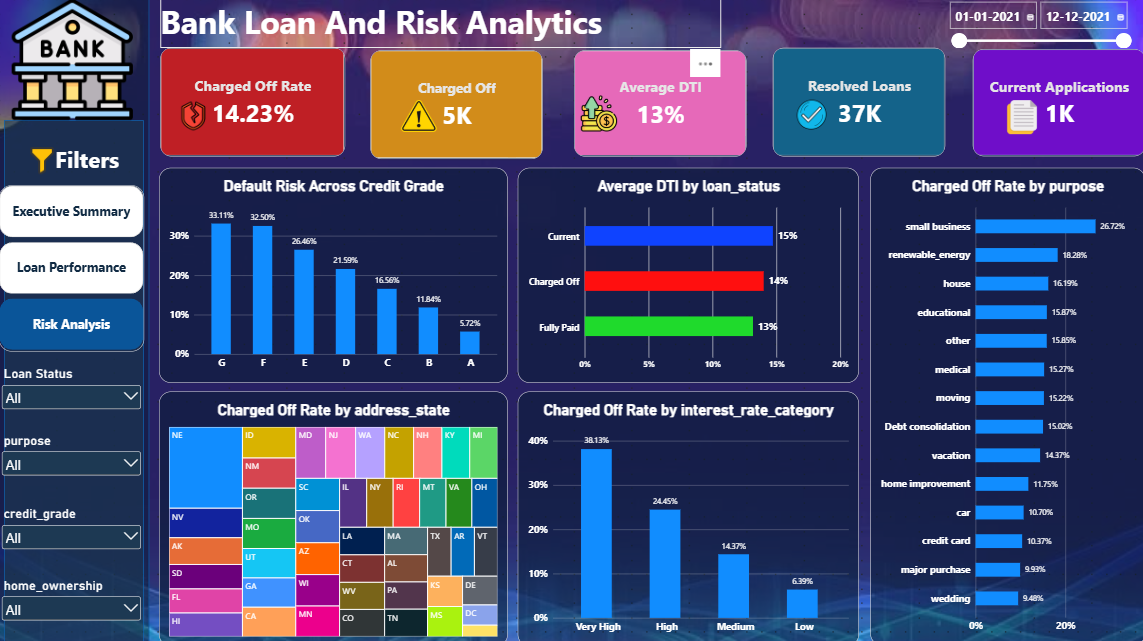

Layout of this report page (visuals, bound fields, positions):
{"tool":"powerbi","page":{"name":"Risk Analysis","canvas":[1920,1080],"ordinal":2},"visuals":[{"type":"cardVisual","fields":{"Data":["Bank_Loan.Charged Off Rate"]},"box":[269.2,81.4,308.9,181.6],"z":0},{"type":"cardVisual","fields":{"Data":["Bank_Loan.Charged Off"]},"box":[619.8,85.6,288,181.6],"z":1000},{"type":"cardVisual","fields":{"Data":["Bank_Loan.Current Applications"]},"box":[1625.7,83.5,288,179.5],"z":2000},{"type":"cardVisual","fields":{"Data":["Bank_Loan.Resolved Loans"]},"box":[1291.8,81.4,288,181.6],"z":3000},{"type":"cardVisual","fields":{"Data":["Bank_Loan.Average DTI"]},"box":[960,85.6,288,177.4],"z":4000},{"type":"textbox","box":[268.4,0,938.2,80.7],"z":5000},{"type":"clusteredColumnChart","title":"Default Risk Across Credit Grade","fields":{"Category":["Bank_Loan.credit_grade"],"Y":["Bank_Loan.Charged Off Rate"]},"box":[267.1,281.7,582.3,359],"z":6000},{"type":"shape","box":[0,0,250.9,1080],"z":7000},{"type":"shape","box":[8.7,202.9,233.5,877.1],"z":8000},{"type":"slicer","fields":{"Values":["Bank_Loan.loan_status"]},"box":[0,613.6,242.2,82.9],"z":9000},{"type":"slicer","fields":{"Values":["Bank_Loan.purpose"]},"box":[0,724.2,242.2,122.2],"z":10000},{"type":"slicer","fields":{"Values":["Bank_Loan.credit_grade"]},"box":[0,847.3,242.1,119],"z":11000},{"type":"slicer","fields":{"Values":["Bank_Loan.home_ownership"]},"box":[0,966.3,242.1,96],"z":12000},{"type":"slicer","fields":{"Values":["Bank_Loan.issue_date"]},"box":[1579.6,0,314.2,80.7],"z":13000},{"type":"clusteredBarChart","fields":{"Category":["Bank_Loan.purpose"],"Y":["Bank_Loan.Charged Off Rate"]},"box":[1454.6,281.7,459.1,797.2],"z":14000},{"type":"clusteredBarChart","fields":{"Category":["Bank_Loan.loan_status"],"Y":["Bank_Loan.Average DTI"]},"box":[866.1,281.7,569.7,359],"z":15000},{"type":"treemap","fields":{"Group":["Bank_Loan.address_state"],"Values":["Bank_Loan.Charged Off Rate"]},"box":[267.1,655.3,582.3,425.7],"z":16000},{"type":"columnChart","fields":{"Category":["Bank_Loan.interest_rate_category"],"Y":["Bank_Loan.Charged Off Rate"]},"box":[866.1,655.3,569.7,425.7],"z":17000},{"type":"pageNavigator","box":[0,311,242.1,277.6],"z":18000},{"type":"image","box":[8.3,0,227.5,202.4],"z":19000},{"type":"textbox","box":[93.9,242.1,123.1,50.1],"z":20000},{"type":"image","box":[18.8,244.2,106.4,52.2],"z":21000},{"type":"image","box":[300.5,164.9,48,60.5],"z":22000},{"type":"image","box":[638.6,164.9,125.2,60.5],"z":23000},{"type":"image","box":[960,160.7,83.5,60.5],"z":24000},{"type":"image","box":[1331.5,160.7,50.1,64.7],"z":25000},{"type":"image","box":[1680,164.9,56.3,64.7],"z":26000}]}

Visuals, with their boxes in screenshot pixels (x1, y1, x2, y2), scaled from the page's 1920x1080 canvas onto the 1143x641 screenshot:
cardVisual - Bank_Loan.Charged Off Rate: 160, 48, 344, 156
cardVisual - Bank_Loan.Charged Off: 369, 51, 540, 159
cardVisual - Bank_Loan.Current Applications: 968, 50, 1139, 156
cardVisual - Bank_Loan.Resolved Loans: 769, 48, 940, 156
cardVisual - Bank_Loan.Average DTI: 572, 51, 743, 156
textbox: 160, 0, 718, 48
"Default Risk Across Credit Grade" clusteredColumnChart: 159, 167, 506, 380
shape: 0, 0, 149, 640
shape: 5, 120, 144, 640
slicer - Bank_Loan.loan_status: 0, 364, 144, 413
slicer - Bank_Loan.purpose: 0, 430, 144, 502
slicer - Bank_Loan.credit_grade: 0, 503, 144, 574
slicer - Bank_Loan.home_ownership: 0, 574, 144, 630
slicer - Bank_Loan.issue_date: 940, 0, 1127, 48
clusteredBarChart - Bank_Loan.purpose x Bank_Loan.Charged Off Rate: 866, 167, 1139, 640
clusteredBarChart - Bank_Loan.loan_status x Bank_Loan.Average DTI: 516, 167, 855, 380
treemap - Bank_Loan.address_state x Bank_Loan.Charged Off Rate: 159, 389, 506, 640
columnChart - Bank_Loan.interest_rate_category x Bank_Loan.Charged Off Rate: 516, 389, 855, 640
pageNavigator: 0, 185, 144, 349
image: 5, 0, 140, 120
textbox: 56, 144, 129, 173
image: 11, 145, 75, 176
image: 179, 98, 207, 134
image: 380, 98, 455, 134
image: 572, 95, 621, 131
image: 793, 95, 822, 134
image: 1000, 98, 1034, 136
